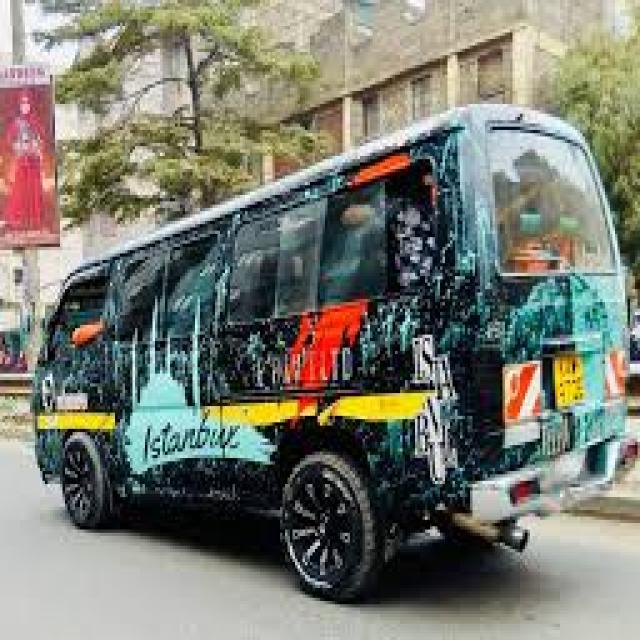matatu: (29, 97, 640, 614)
